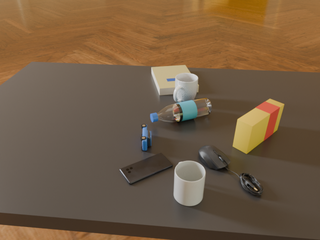book: (152, 65, 199, 95)
bottle: (150, 98, 212, 122)
box: (233, 99, 284, 154)
cup: (174, 161, 205, 206), (173, 73, 198, 103)
mouse: (199, 145, 230, 170)
phone: (120, 153, 173, 184)
toy_car: (141, 124, 151, 151)
